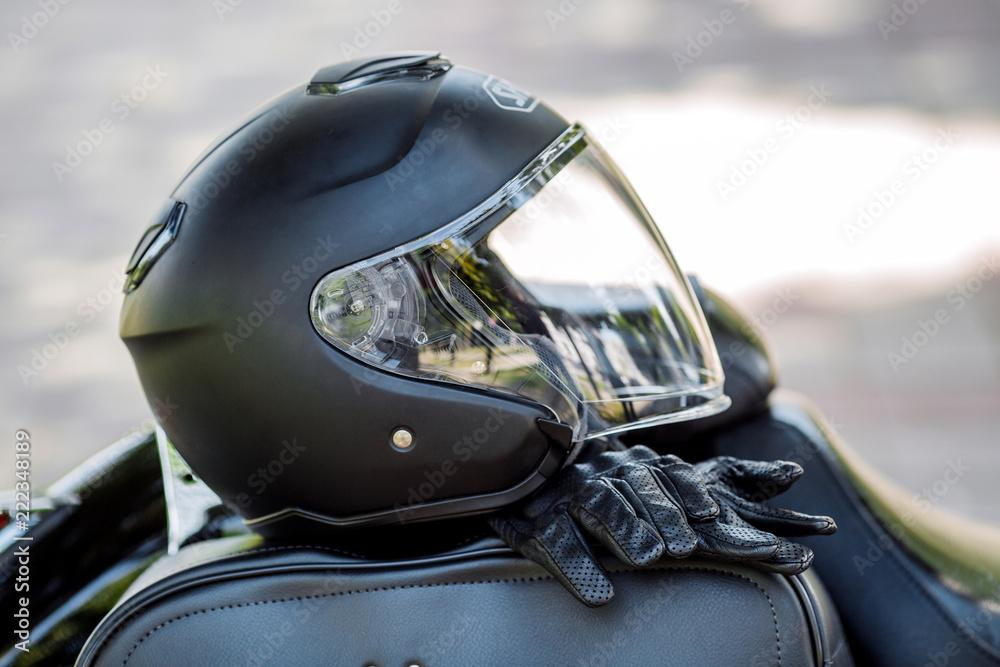helmet: (116, 48, 736, 543)
